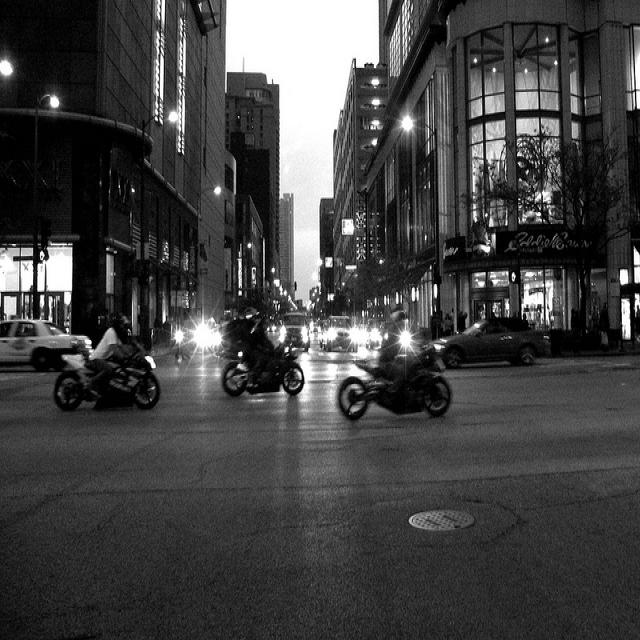motor: (337, 344, 455, 424), (53, 347, 160, 411), (222, 338, 305, 397)
